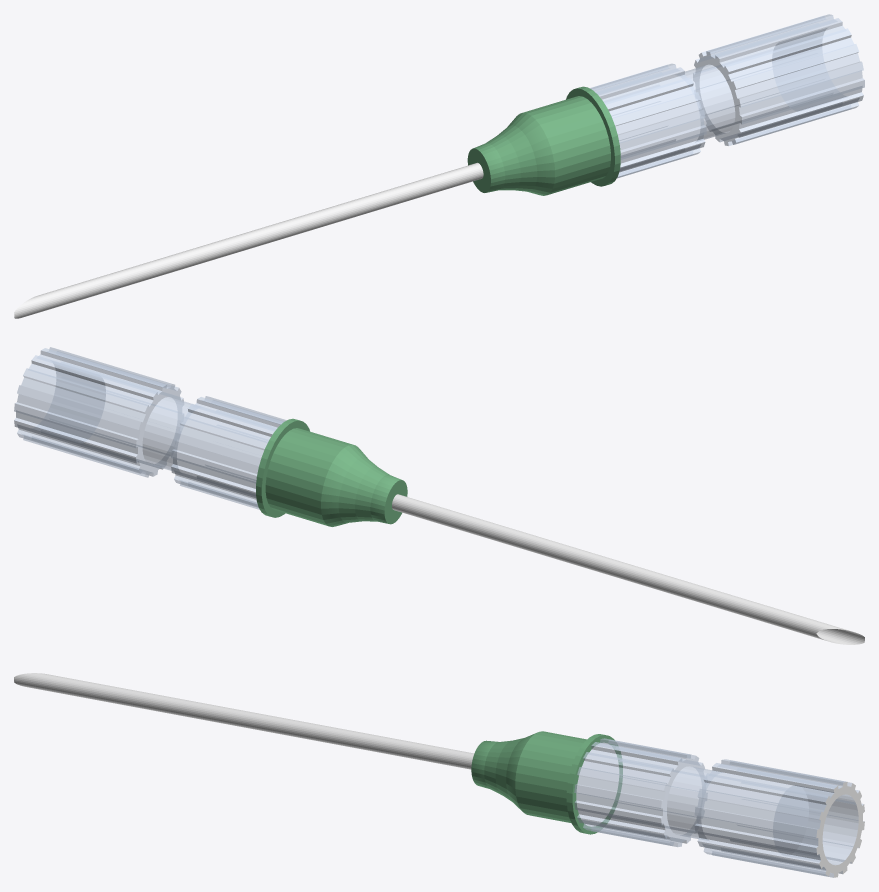
File: IV-Catheter.glb
3 views of the same model, one above another, from view 1: azimuth 30°, elevation 25°; view 2: azimuth 150°, elevation 25°; view 3: azimuth 330°, elevation 25° (orthographic).
Visible parts, largest first — view 1: Object_Catheter; view 2: Object_Catheter; view 3: Object_Catheter.
Boxes of the visible parts, x1,y1,x2,y2 form: Object_Catheter: [14, 14, 864, 318]; Object_Catheter: [14, 347, 864, 644]; Object_Catheter: [14, 673, 864, 877].
Size of the model in its own units: 0.0737 by 0.00889 by 0.00781.
